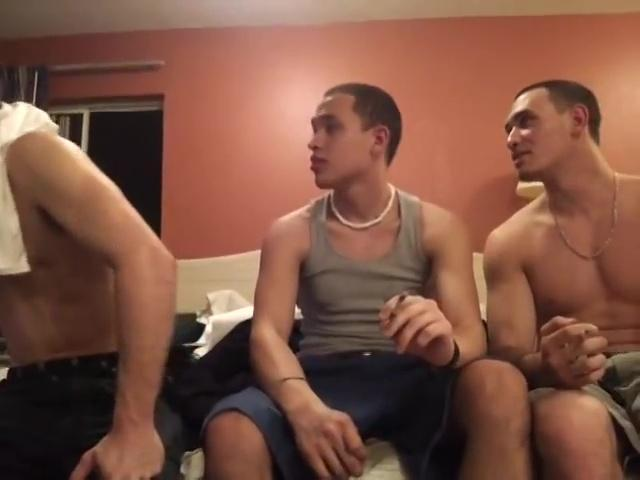cigarette: (388, 289, 409, 326), (570, 326, 594, 343)
